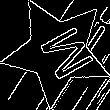M_SW: (24, 19, 90, 84)
